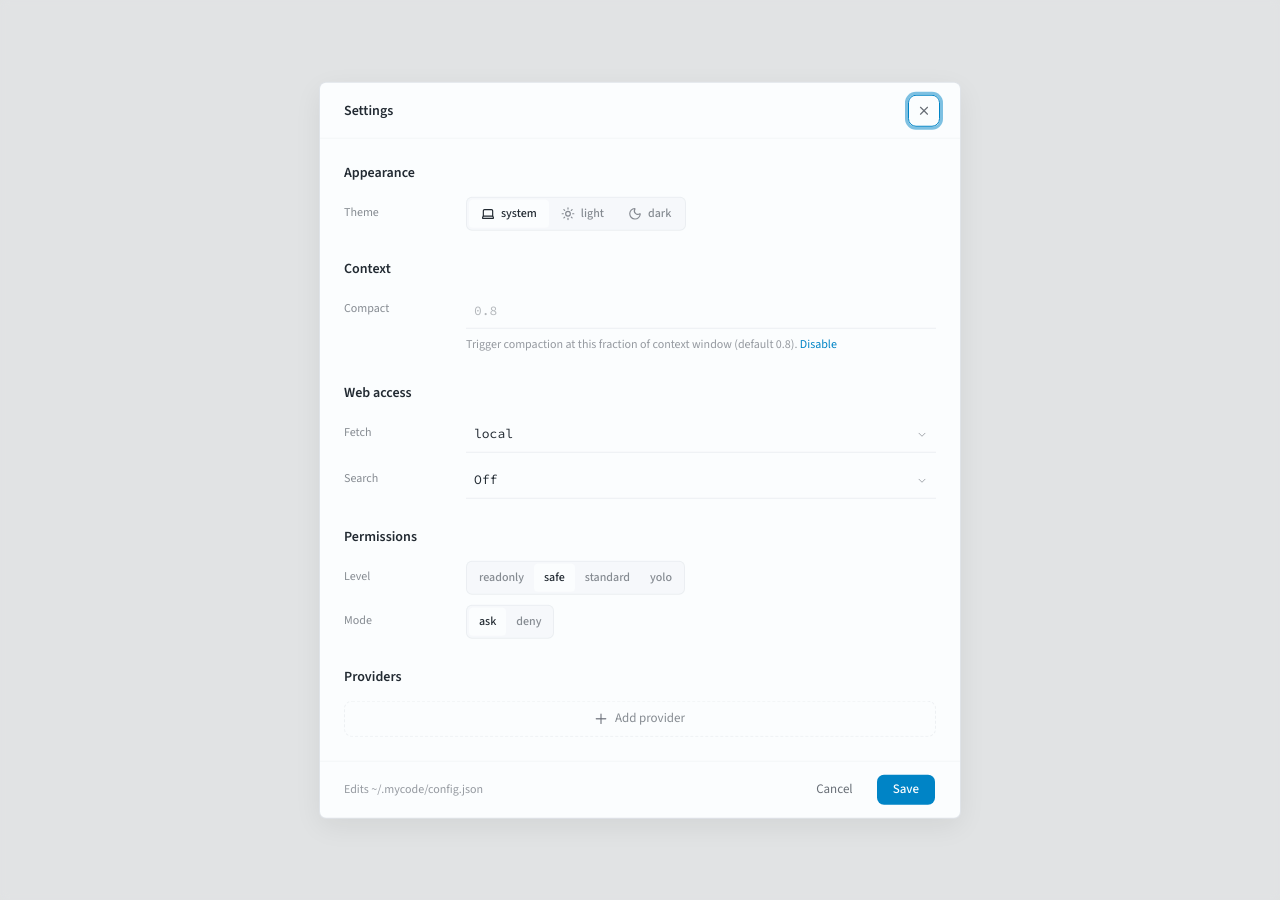
Test: SettingsPanel › names each control by its row label
Click the button "Add provider".
click(640, 718)  # box [344, 700, 936, 736]
(page scrolled)
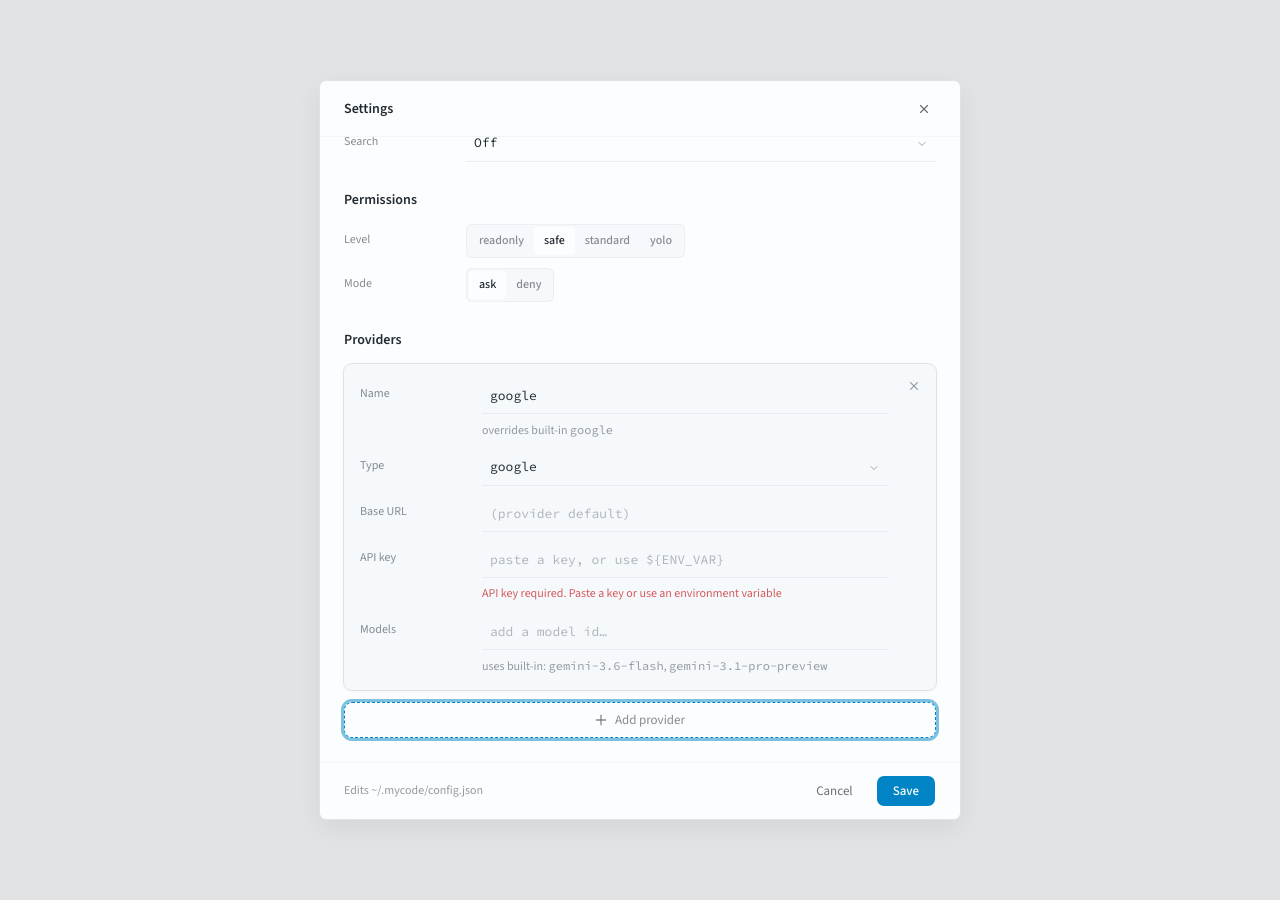
Check: the field labelled "Name" is shown, box [482, 378, 888, 414]
Check: the dropdown labelled "Type" is shown, box [482, 450, 888, 486]
Check: the field labelled "Base URL" is shown, box [482, 496, 888, 532]
